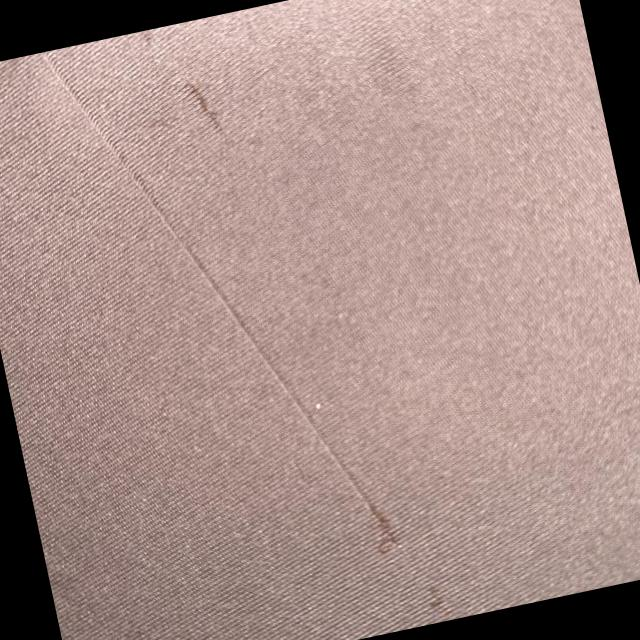seam: (36, 0, 402, 603)
